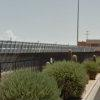Bridge: (3, 29, 90, 68)
